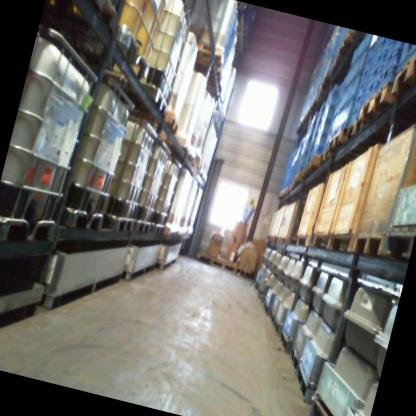pallet: (49, 0, 124, 36), (107, 29, 155, 79), (114, 76, 173, 115), (357, 78, 401, 127), (380, 217, 416, 262), (390, 43, 416, 101), (289, 361, 321, 404), (350, 227, 386, 260), (336, 28, 362, 61), (194, 42, 226, 68), (328, 228, 355, 255), (151, 110, 181, 133), (325, 126, 347, 155), (308, 399, 345, 416), (344, 118, 365, 146), (310, 228, 333, 253), (321, 72, 341, 94), (210, 258, 237, 274), (277, 329, 295, 351), (287, 347, 304, 370), (331, 58, 350, 75), (306, 153, 323, 172), (271, 317, 285, 335), (209, 66, 225, 81), (318, 150, 332, 167), (206, 82, 224, 93), (262, 301, 273, 315), (350, 30, 366, 39), (179, 141, 190, 153), (236, 2, 248, 12), (267, 311, 276, 324), (184, 153, 195, 163), (278, 189, 285, 199), (283, 187, 289, 195), (280, 236, 286, 243), (276, 236, 282, 243), (195, 155, 201, 162)
small_load_carrier: (381, 47, 402, 80), (377, 65, 398, 95), (362, 79, 381, 108), (366, 64, 383, 95), (371, 48, 388, 78), (398, 43, 416, 70), (374, 37, 390, 64), (386, 39, 403, 59), (363, 49, 376, 74), (349, 104, 362, 127), (360, 65, 372, 87), (367, 38, 379, 58), (356, 81, 367, 101), (352, 96, 363, 115)
